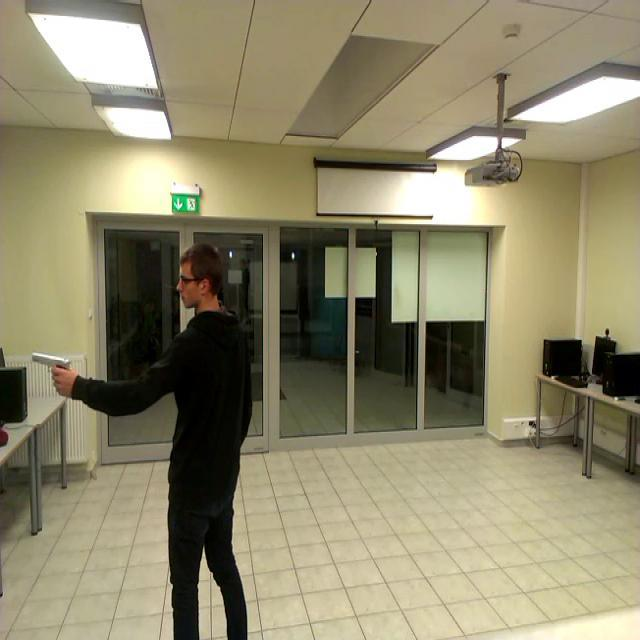Gun: (32, 350, 72, 385)
